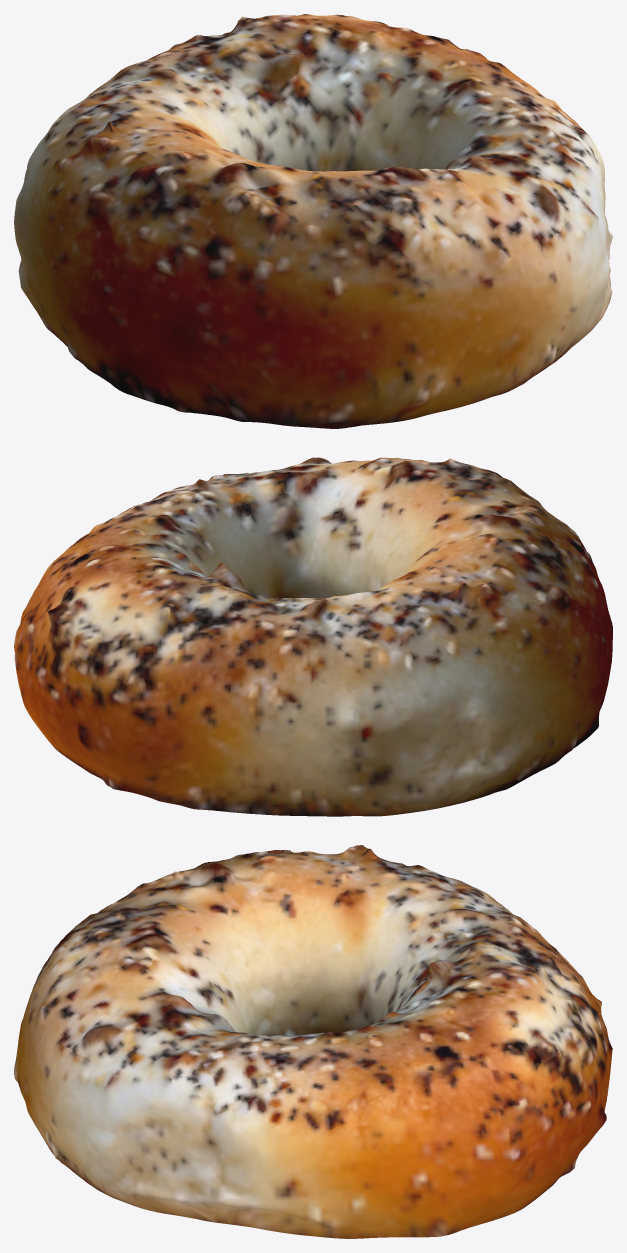
File: everything_bagel-loader.glb
The picture shows the model from 3 angles, top to bottom: view 1: azimuth 30°, elevation 25°; view 2: azimuth 150°, elevation 25°; view 3: azimuth 270°, elevation 25°; orthographic projection. The views are drawn at different scales.
Parts seen in each view (by area): view 1: Object_2; view 2: Object_2; view 3: Object_2.
Boxes of the visible parts, x1,y1,x2,y2 form: Object_2: (14,14,612,428); Object_2: (14,457,612,816); Object_2: (14,845,612,1238).
Bounding box in the file's own units: 2.32 × 0.8592 × 2.36.
Materials: 1 (1 with a texture image).
